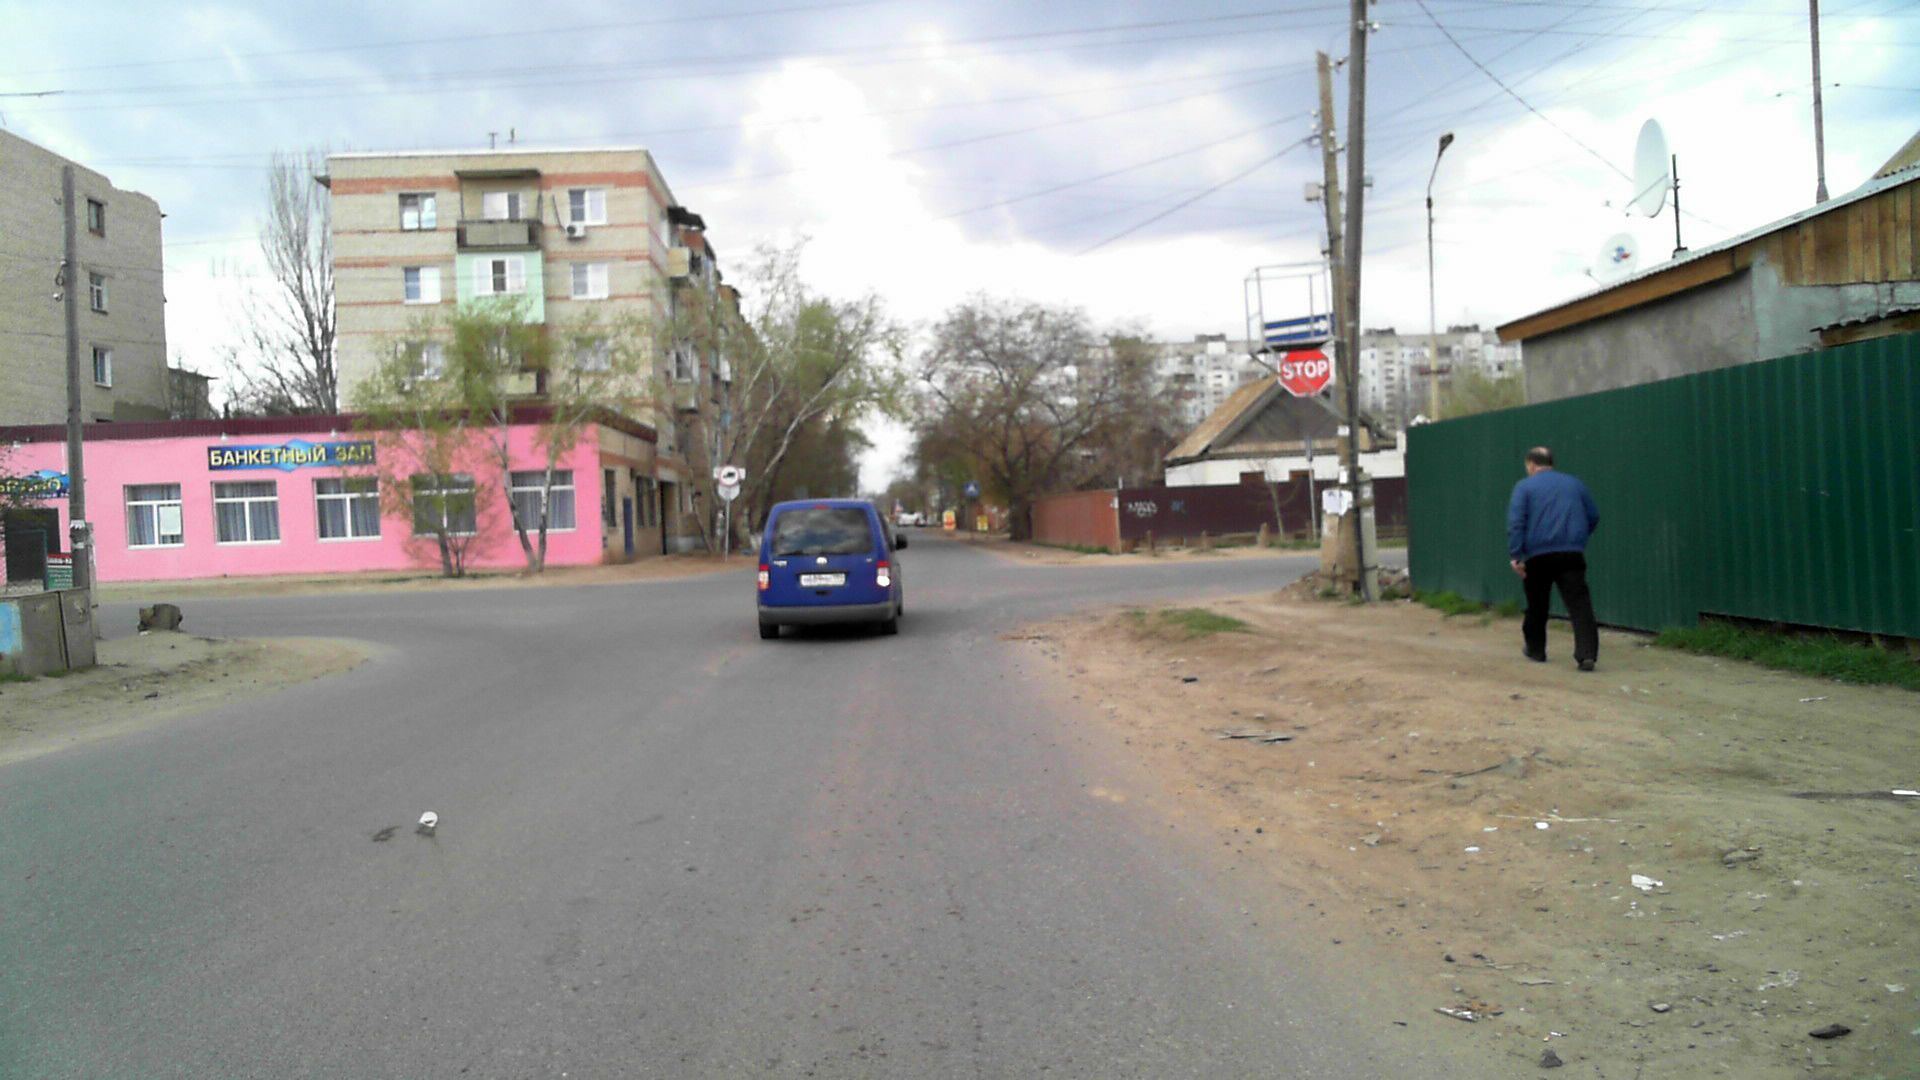One-Way Traffic: (1262, 313, 1335, 343)
